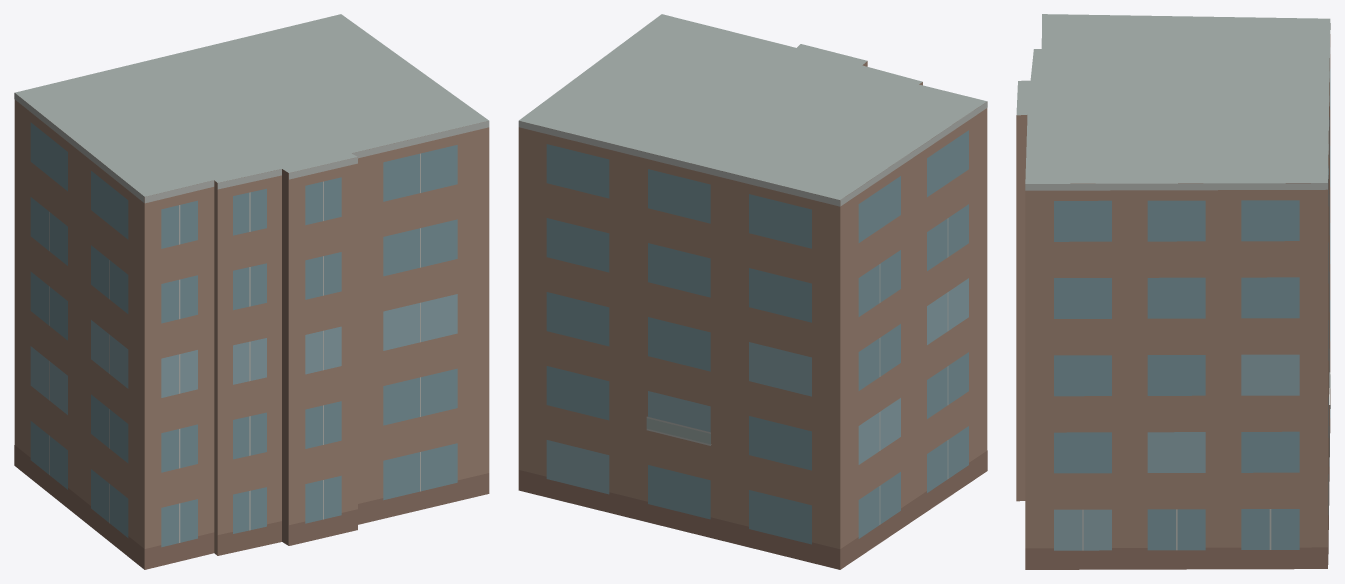
Rendered from survey-upis-32630712.glb.
3 renders of one model, left to right at view 1: azimuth 30°, elevation 25°; view 2: azimuth 150°, elevation 25°; view 3: azimuth 270°, elevation 25°, orthographic. The views are drawn at different scales.
Visible parts, largest first — view 1: survey-upis-32630712.tmp; view 2: survey-upis-32630712.tmp; view 3: survey-upis-32630712.tmp.
Boxes of the visible parts, x1,y1,x2,y2 form: survey-upis-32630712.tmp: (14,14,489,569); survey-upis-32630712.tmp: (518,14,987,569); survey-upis-32630712.tmp: (1016,14,1330,569).
Bounding box in the file's own units: 13.04 × 13.8 × 10.19.
